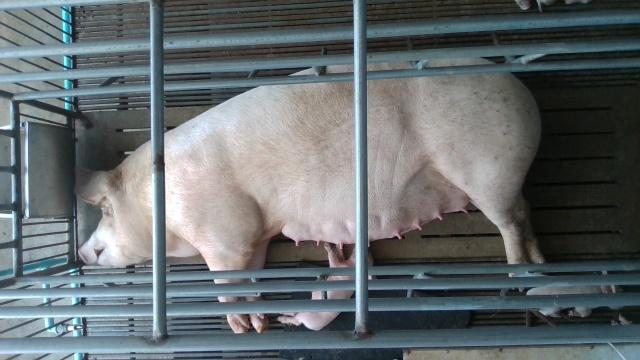piglet: (277, 245, 376, 331), (528, 270, 625, 318)
sow-sleep-lactate: (78, 57, 542, 333)
